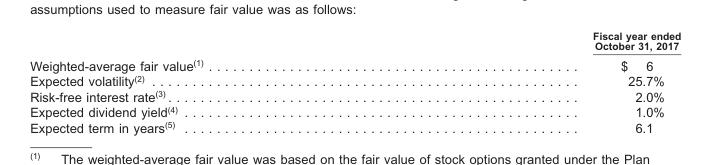table: (29, 28, 680, 134)
table column: (29, 28, 397, 134), (397, 28, 680, 134)
table column header: (29, 28, 680, 54)
table row: (29, 28, 680, 54), (29, 54, 680, 72), (29, 72, 680, 88), (29, 103, 680, 119), (29, 88, 680, 103), (29, 119, 680, 134)
